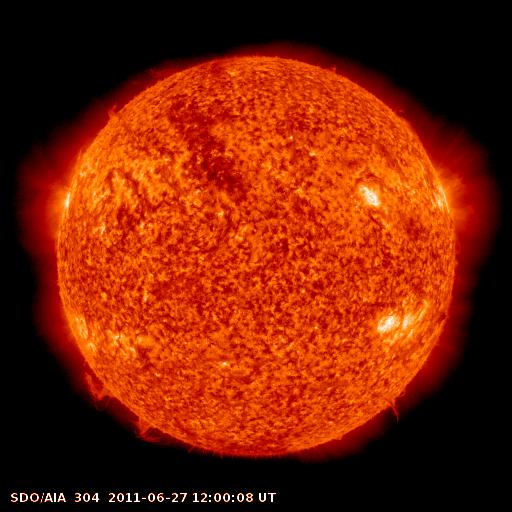prominence: (100, 61, 195, 127), (73, 355, 121, 405), (129, 410, 171, 447), (379, 383, 413, 424), (69, 139, 98, 174)
